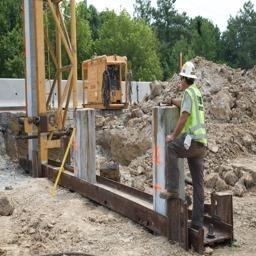hat: (172, 82, 216, 153), (178, 53, 212, 87)
